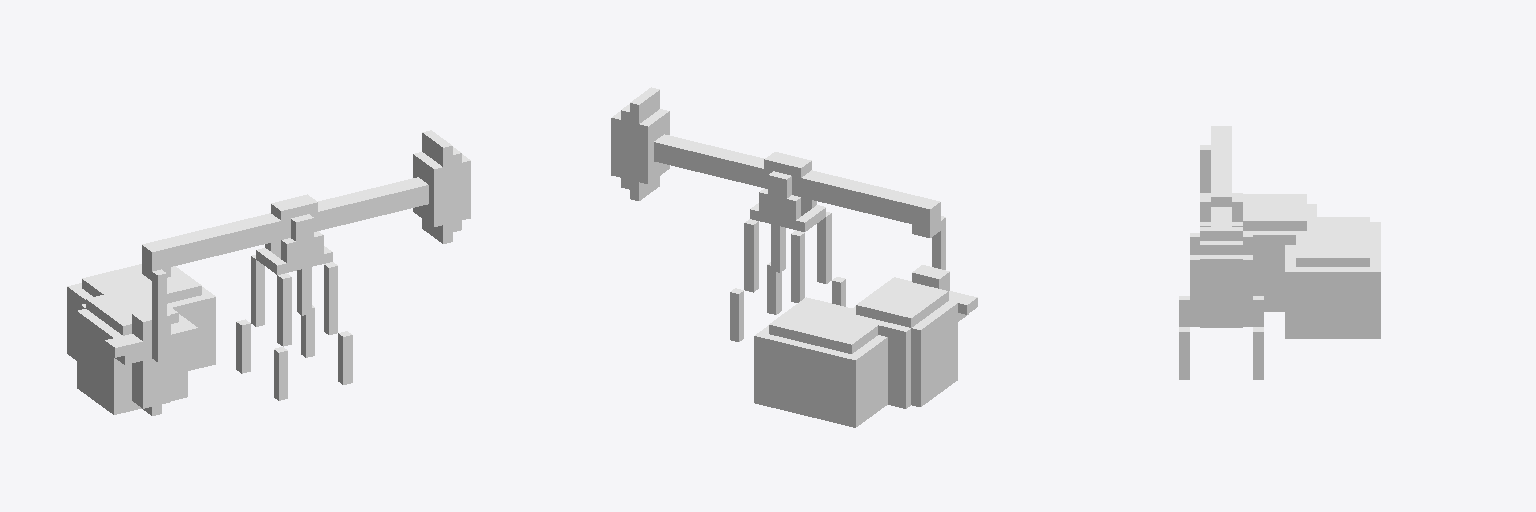
The model's file is OldArt2.obj.
3 views of the same model, side by side, from view 1: azimuth 30°, elevation 25°; view 2: azimuth 150°, elevation 25°; view 3: azimuth 270°, elevation 25° (orthographic).
Parts seen in each view (by area): view 1: object 1; view 2: object 1; view 3: object 1.
Part boxes in pixels (bbox=[...]): object 1: bbox=[67, 130, 470, 415]; object 1: bbox=[611, 87, 977, 427]; object 1: bbox=[1179, 126, 1380, 379].
Bounding box in the file's own units: 3.8 × 2.1 × 1.9.